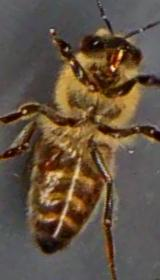varroa_mite: (29, 142, 73, 178)
